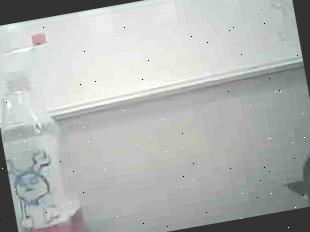hazard: (0, 22, 103, 232)
